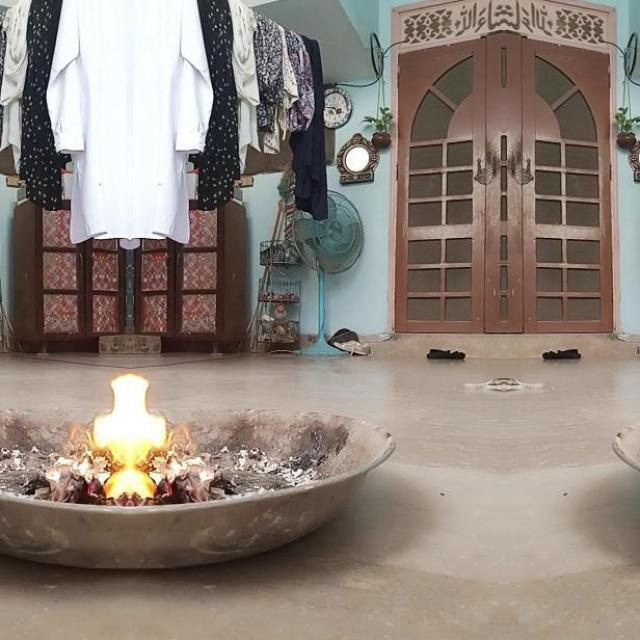smoke: (92, 372, 172, 506)
